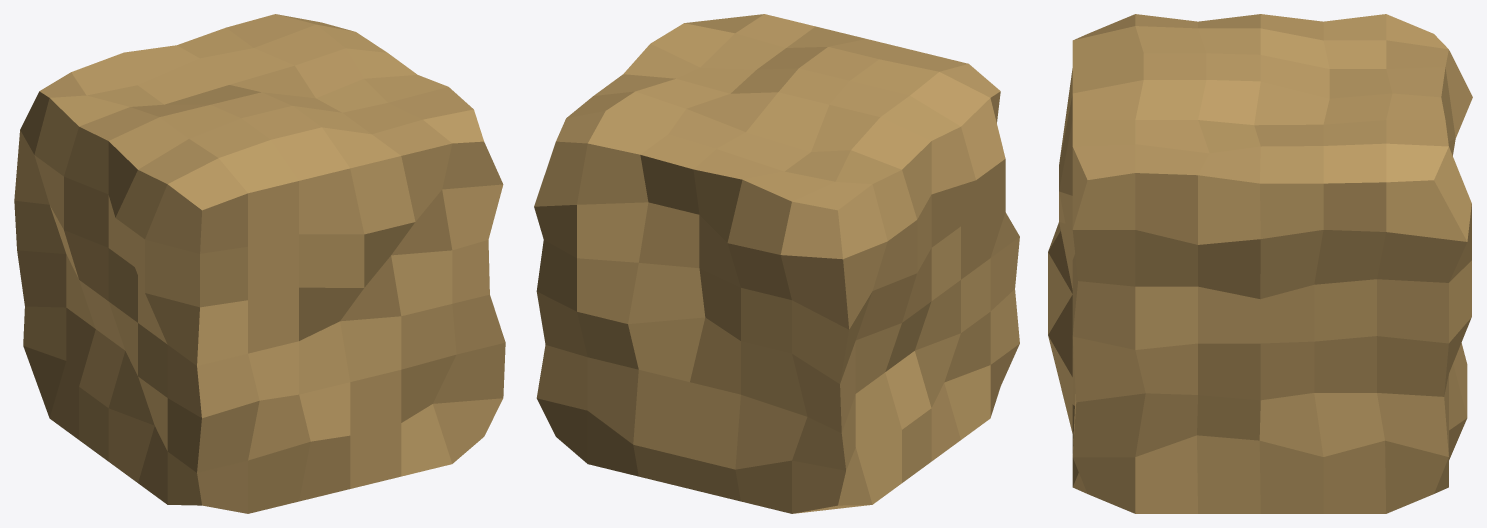
The model's file is Stone.fbx.
3 renders of one model, left to right at view 1: azimuth 30°, elevation 25°; view 2: azimuth 150°, elevation 25°; view 3: azimuth 270°, elevation 25°, orthographic. The views are drawn at different scales.
Visible parts, largest first — view 1: Cube; view 2: Cube; view 3: Cube.
Part boxes in pixels (x1,y1,x2,y2): Cube: [14, 14, 505, 513]; Cube: [534, 14, 1019, 513]; Cube: [1048, 14, 1472, 513].
Bounding box in the file's own units: 225 × 213 × 229.
